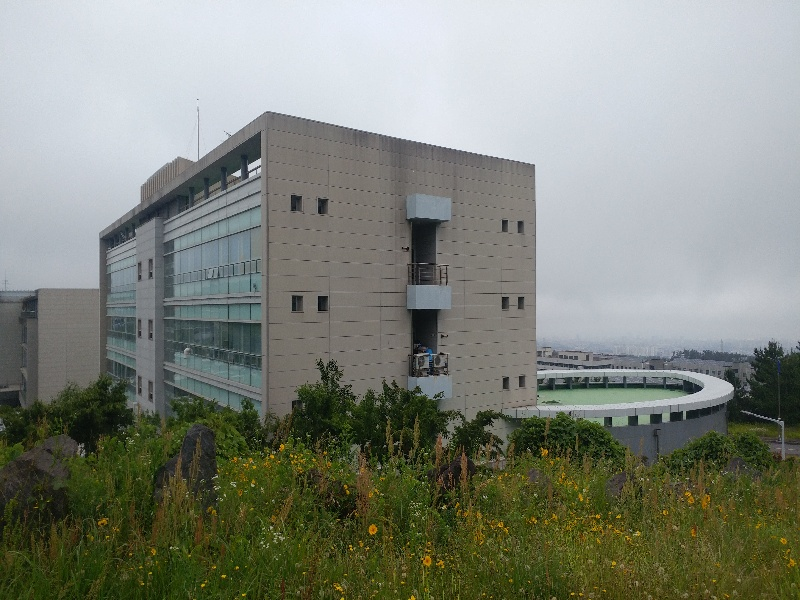College of Marine Science: (84, 111, 535, 406)
Engineering College Building 4: (12, 292, 81, 408)
